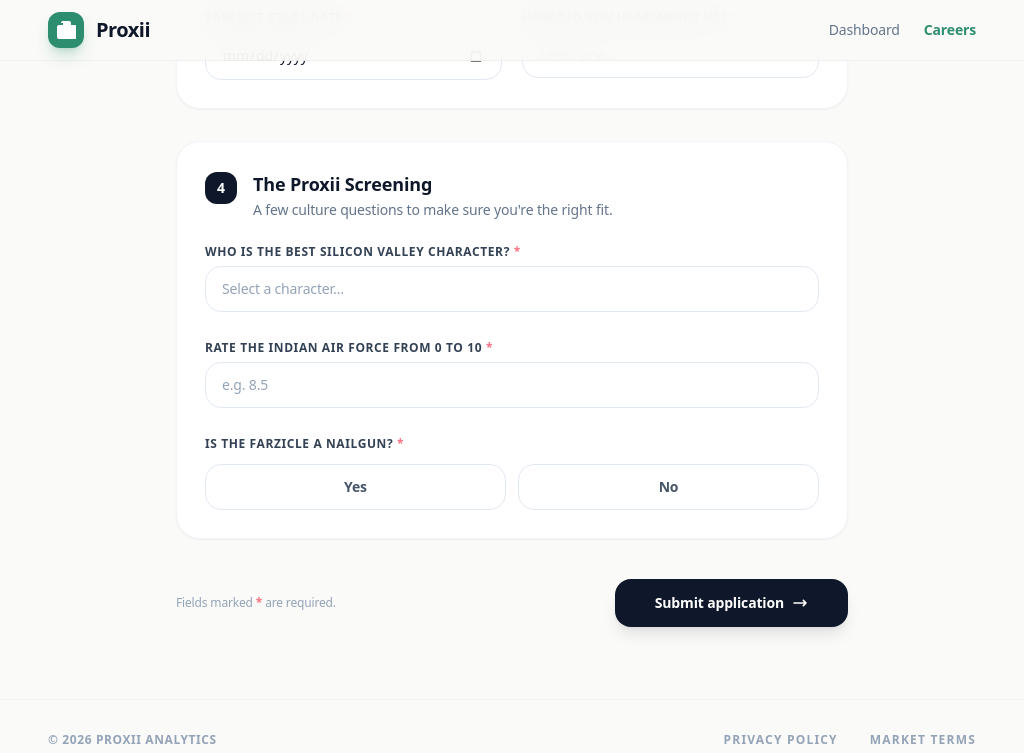
Test: Proxii Screening — Indian Air Force rating › shows "Invalid number" below 9.55
(page scrolled)
Step 1. Type "9.0" into the number field with placeholder "e.g. 8.5" → (512, 384), box [205,362,819,408]
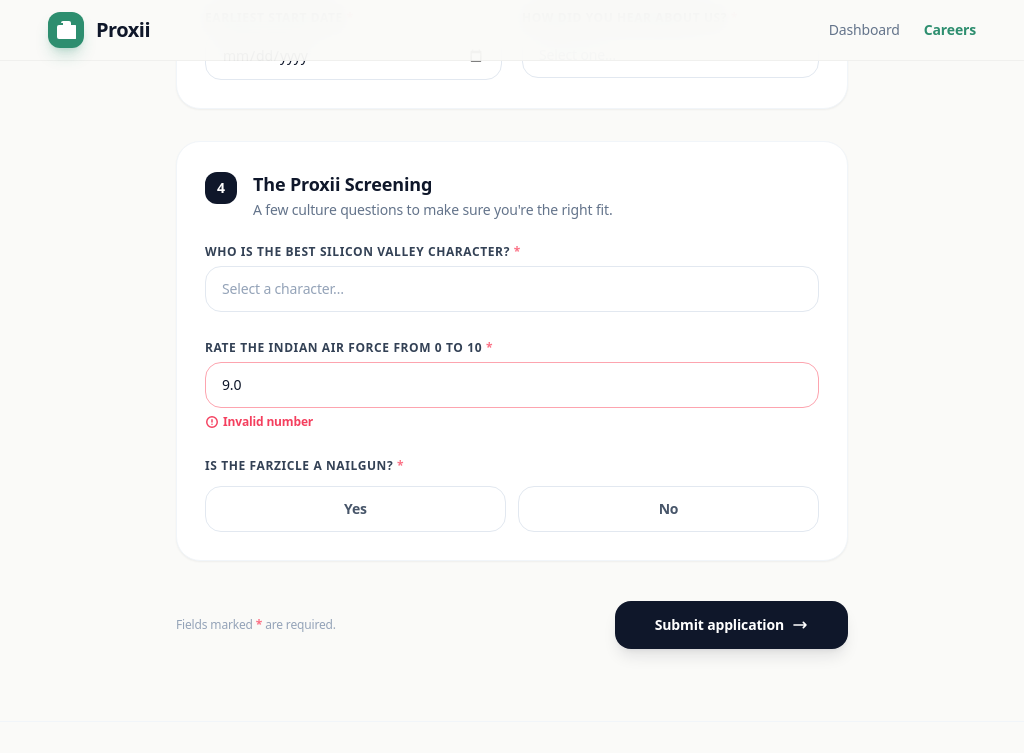
Expected: the text "Invalid number" is shown, [205,412,313,430]
